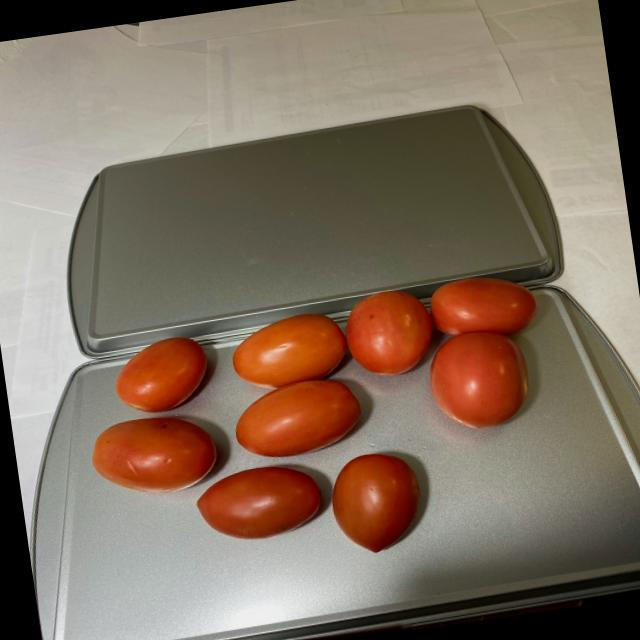tomato: (74, 271, 570, 592)
